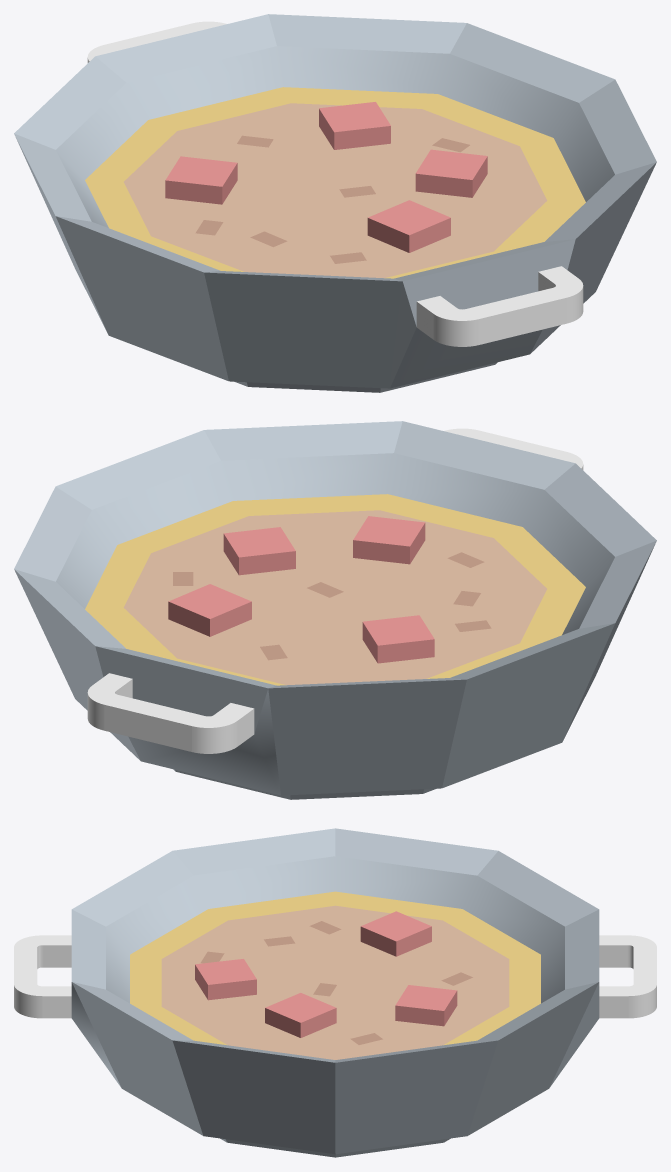
The model's file is panStew.glb.
3 renders of one model, top to bottom at view 1: azimuth 30°, elevation 25°; view 2: azimuth 150°, elevation 25°; view 3: azimuth 270°, elevation 25°, orthographic. The views are drawn at different scales.
Parts seen in each view (by area): view 1: panStew; view 2: panStew; view 3: panStew.
Part boxes in pixels (x1=…): panStew: x1=14, y1=14, x2=656, y2=392; panStew: x1=14, y1=421, x2=656, y2=799; panStew: x1=14, y1=828, x2=656, y2=1157.
Size of the model in its own units: 0.6574 by 0.1753 by 0.7621.
